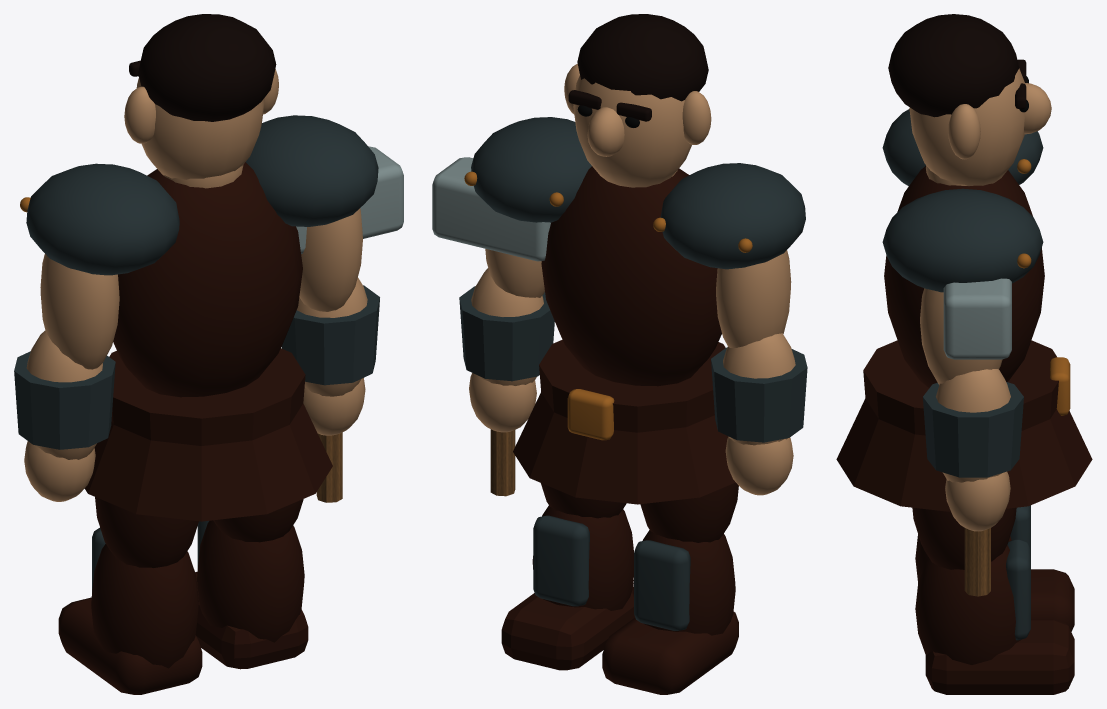
File: charsi.glb
The picture shows the model from 3 angles, left to right: view 1: azimuth 30°, elevation 25°; view 2: azimuth 150°, elevation 25°; view 3: azimuth 270°, elevation 25°; orthographic projection. The views are drawn at different scales.
Parts seen in each view (by area): view 1: Layered skirt, Bracer, Foot, Bracer.001, Boot.001, Brow.001, Upper arm, Nose, Upper arm.001, Smith hammer, Weapon haft; view 2: Layered skirt, Bracer, Bracer.001, Foot, Boot.001, Upper arm, Nose, Brow.001, Upper arm.001, Smith hammer, Shin guard.001, Shin guard (+2 smaller); view 3: Layered skirt, Bracer.001, Boot.001, Brow.001, Nose, Upper arm.001, Smith hammer, Bracer, Foot, Shin guard.001, Weapon haft, Belt clasp (+1 smaller).
Part boxes in pixels (x1,y1,x2,y2): Layered skirt: (84, 162, 332, 521); Bracer: (14, 163, 179, 449); Foot: (58, 497, 202, 694); Bracer.001: (246, 115, 379, 385); Boot.001: (195, 499, 308, 669); Brow.001: (129, 14, 276, 121); Upper arm: (24, 254, 119, 501); Nose: (124, 69, 278, 188); Upper arm.001: (297, 208, 367, 435); Smith hammer: (296, 146, 403, 253); Weapon haft: (316, 432, 342, 502); Layered skirt: (513, 166, 735, 504); Bracer: (660, 163, 807, 442); Bracer.001: (459, 117, 591, 381); Foot: (602, 482, 738, 694); Boot.001: (501, 483, 634, 670); Upper arm: (716, 250, 795, 495); Nose: (564, 64, 711, 187); Brow.001: (568, 14, 708, 121); Upper arm.001: (469, 249, 544, 432); Smith hammer: (432, 157, 550, 261); Shin guard.001: (533, 515, 589, 606); Shin guard: (634, 540, 690, 630); Layered skirt: (836, 166, 1092, 511); Bracer.001: (882, 188, 1043, 477); Boot.001: (912, 507, 1074, 694); Brow.001: (888, 14, 1026, 117); Nose: (909, 68, 1051, 185); Upper arm.001: (920, 288, 1010, 531); Smith hammer: (943, 278, 1011, 359); Bracer: (882, 109, 1043, 186); Foot: (915, 534, 1074, 631); Shin guard.001: (1006, 539, 1030, 640); Weapon haft: (964, 528, 990, 596); Belt clasp: (1050, 357, 1070, 415).
Bounding box in the file's own units: 1.4 × 2.38 × 0.86.
Materials: 8 (1 with a texture image).
